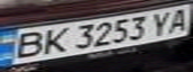2: (93, 18, 115, 48)
3: (127, 13, 154, 42), (72, 21, 96, 51)
5: (112, 16, 133, 45)
A: (163, 7, 193, 34)
B: (3, 29, 48, 61)
K: (36, 25, 72, 55)
Y: (145, 9, 178, 37)
